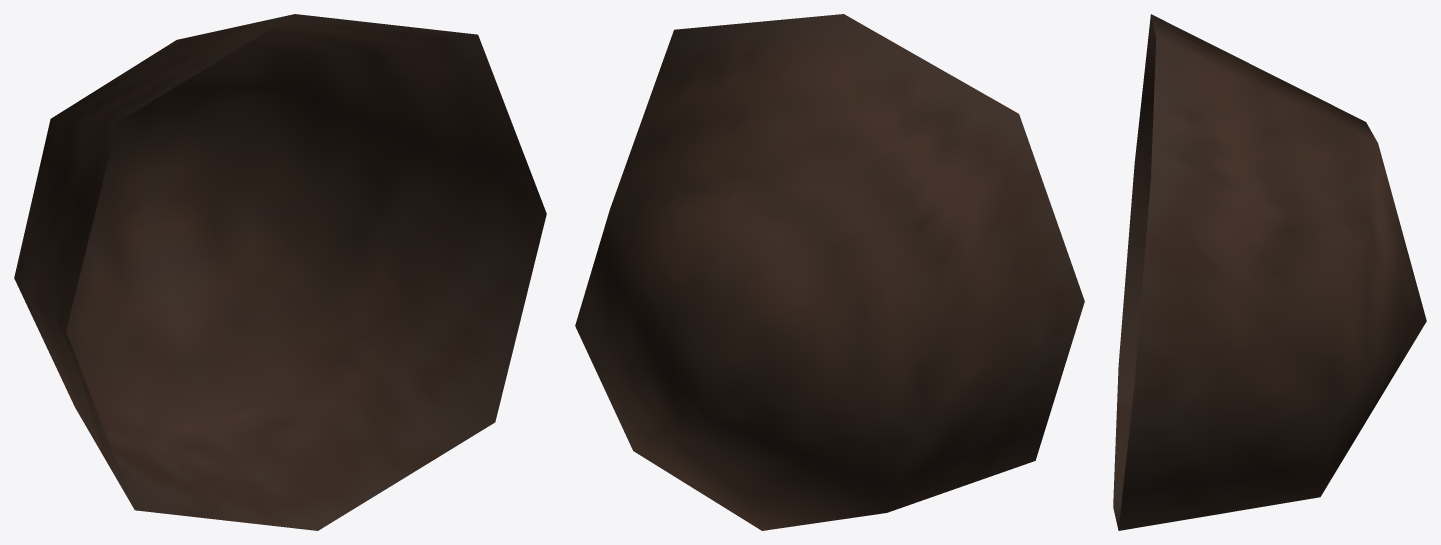
The model's file is hair_female_bun.fbx.
3 renders of one model, left to right at view 1: azimuth 30°, elevation 25°; view 2: azimuth 150°, elevation 25°; view 3: azimuth 270°, elevation 25°, orthographic. The views are drawn at different scales.
Visible parts, largest first — view 1: hair_scientistF_bun; view 2: hair_scientistF_bun; view 3: hair_scientistF_bun.
Boxes of the visible parts, bbox=[...] form: hair_scientistF_bun: bbox=[14, 14, 546, 530]; hair_scientistF_bun: bbox=[575, 14, 1084, 530]; hair_scientistF_bun: bbox=[1113, 14, 1426, 530].
Bounding box in the file's own units: 2.95 × 2.93 × 1.78.
